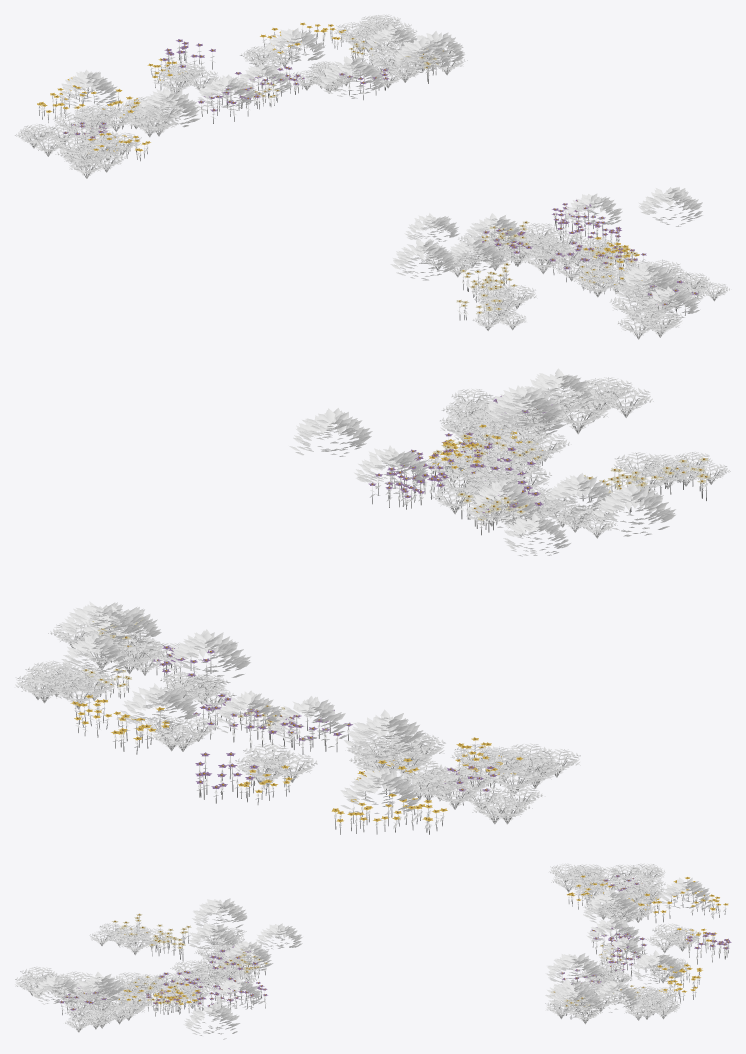
The model's file is SM_DF_Nature_2_3_Flora.fbx.
3 views of the same model, one above another, from view 1: azimuth 30°, elevation 25°; view 2: azimuth 150°, elevation 25°; view 3: azimuth 270°, elevation 25° (orthographic). The views are drawn at different scales.
Parts seen in each view (by area): view 1: SM_DF_Nature_2_3_Flora; view 2: SM_DF_Nature_2_3_Flora; view 3: SM_DF_Nature_2_3_Flora.
Boxes of the visible parts, bbox=[...] form: SM_DF_Nature_2_3_Flora: bbox=[15, 14, 731, 339]; SM_DF_Nature_2_3_Flora: bbox=[15, 368, 730, 834]; SM_DF_Nature_2_3_Flora: bbox=[15, 863, 731, 1039].
Bounding box in the file's own units: 1580 × 2614 × 197.
